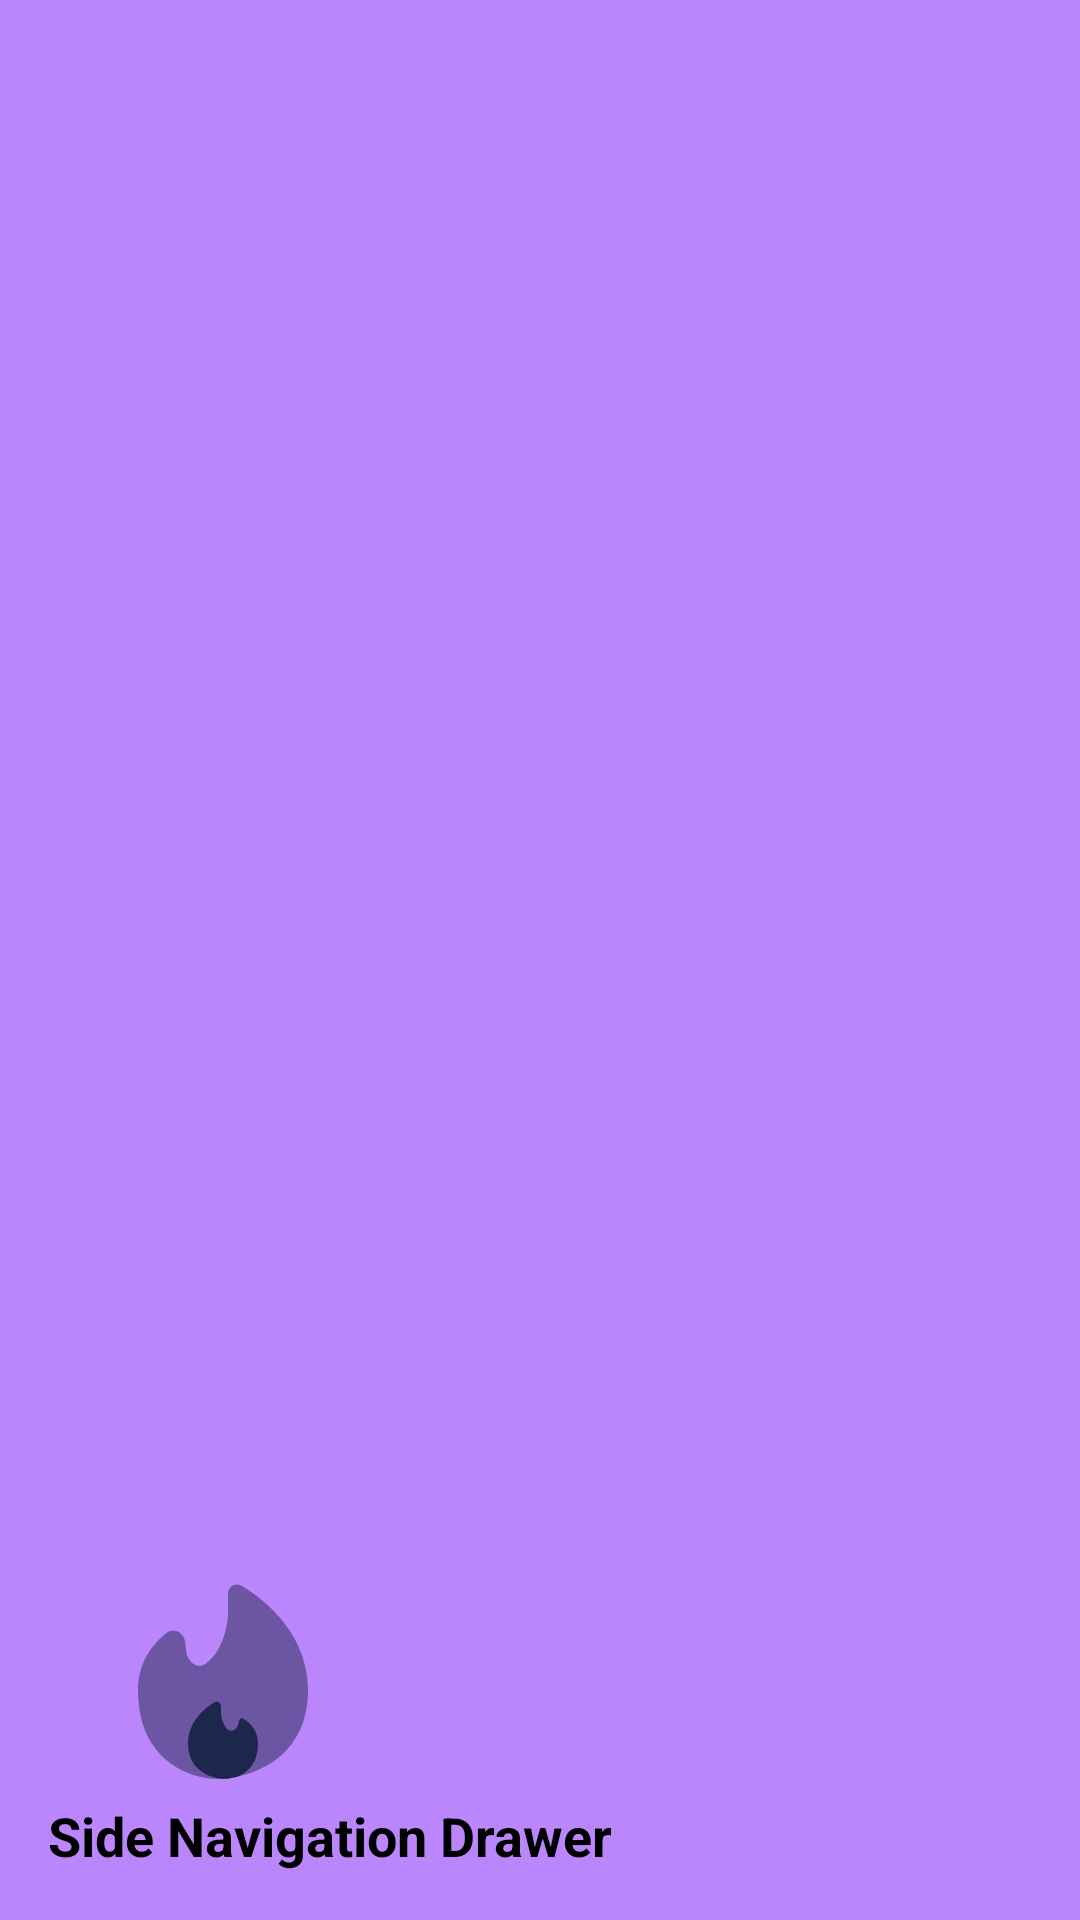

Point at icon controls on the screen. Image size 1080×1920, points as [x,y].
fire: [223,1681]
